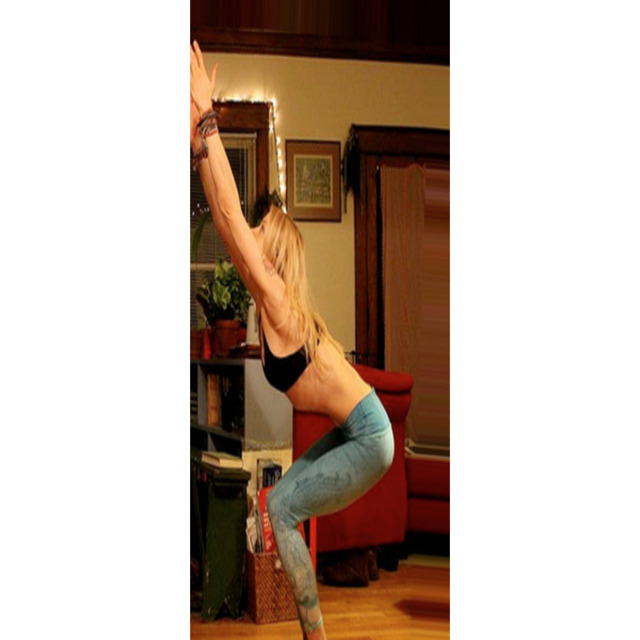Squat_Pose: (190, 39, 397, 640)
